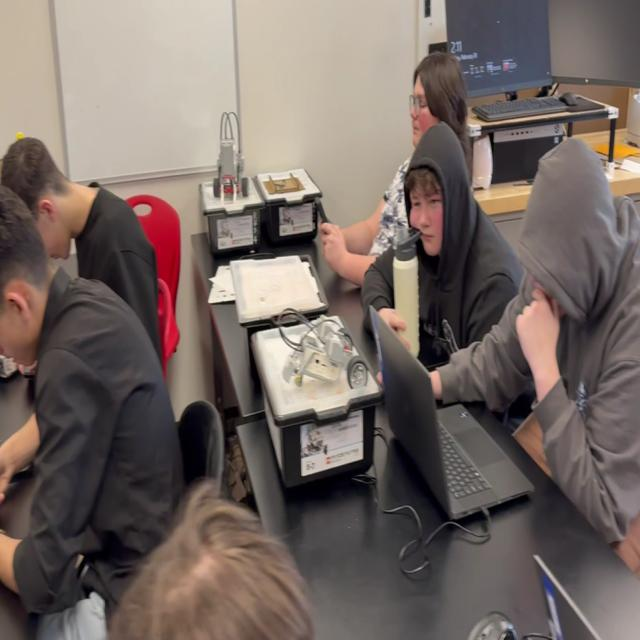pen: (314, 196, 334, 249)
